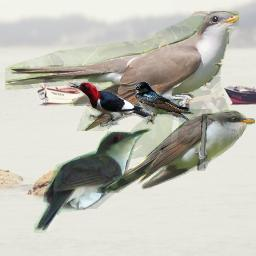Cuckoo: (5, 11, 239, 131), (94, 109, 255, 193), (34, 128, 152, 234)
Swallow: (135, 82, 194, 125)
Woodpecker: (66, 80, 153, 129)
